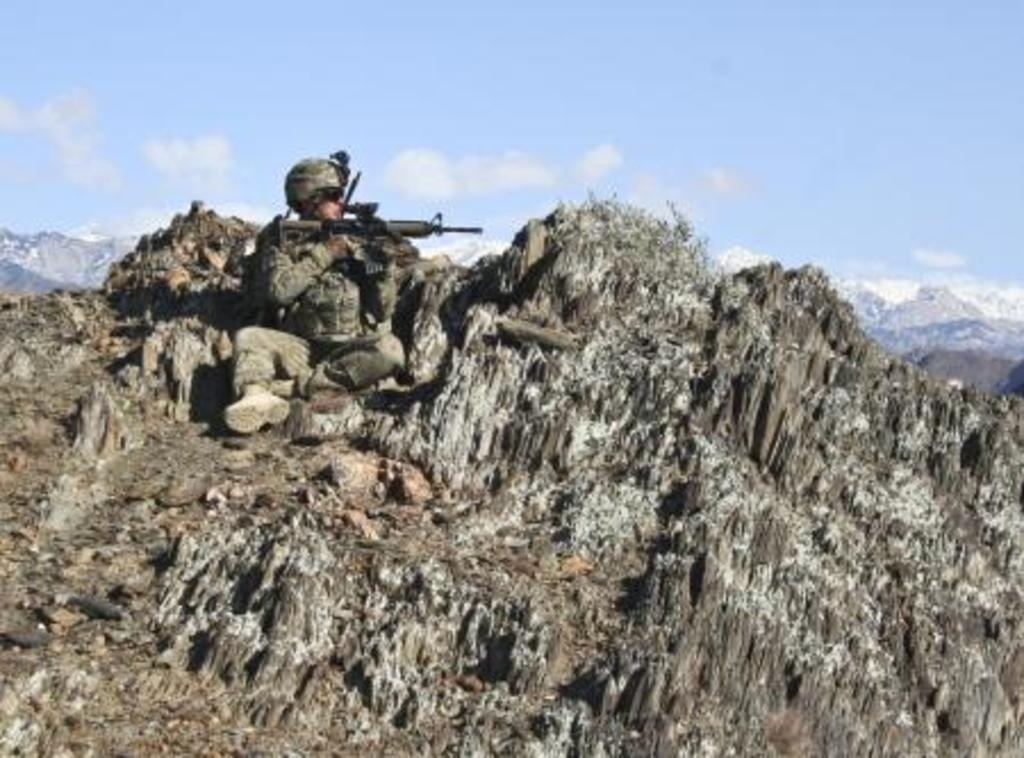non-violence: (225, 154, 414, 440)
weapon: (268, 198, 484, 275)
